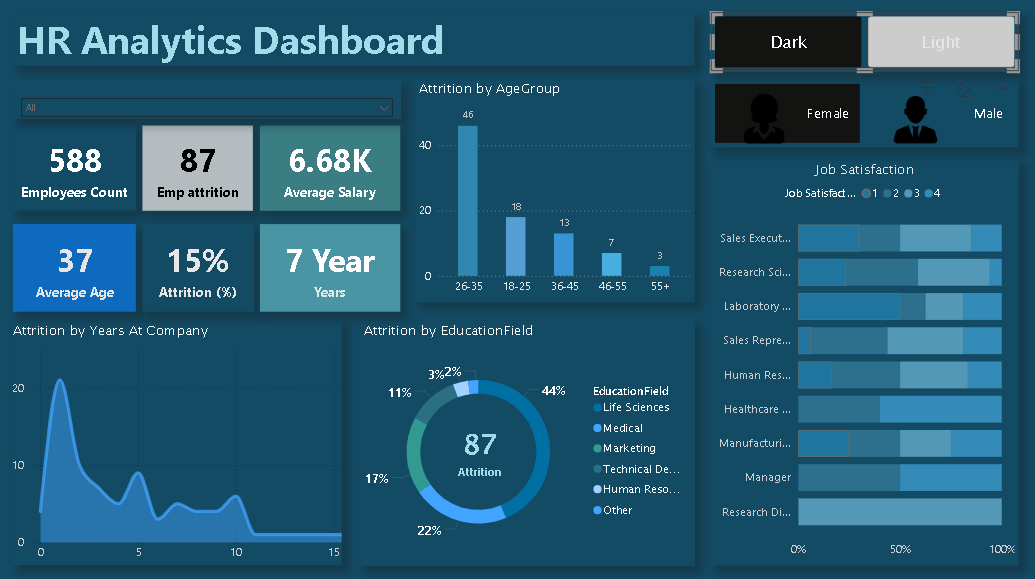

The dashboard page shown, as its layout file describes it:
{"tool":"powerbi","page":{"name":"Page 1","canvas":[1280,720],"ordinal":0},"visuals":[{"type":"image","box":[891.7,101.7,98.3,75],"z":2000},{"type":"image","box":[1091.7,101.7,98.3,75],"z":3000},{"type":"card","fields":{"Values":["HR_Analytics.Employee_Count"]},"box":[18.3,103.3,151.7,105],"z":4000},{"type":"card","fields":{"Values":["HR_Analytics.Employees_attrition"]},"box":[178.3,101.7,136.7,105],"z":5000},{"type":"card","fields":{"Values":["HR_Analytics.year_with_text"]},"box":[325,216.7,171.7,105],"z":6000},{"type":"card","fields":{"Values":["HR_Analytics.attrition%"]},"box":[178.3,216.7,136.7,105],"z":7000},{"type":"card","fields":{"Values":["HR_Analytics.Avg_Salary"]},"box":[325,101.7,171.7,105],"z":8000},{"type":"donutChart","title":"Attrition by EducationField","fields":{"Y":["HR_Analytics.Employees_attrition"],"Category":["HR_Analytics.EducationField"]},"box":[448,394,414,302],"z":8500},{"type":"areaChart","title":"Attrition by Years At Company","fields":{"Category":["HR_Analytics.YearsAtCompany"],"Y":["HR_Analytics.Employees_attrition"]},"box":[18,394,408,302],"z":9000},{"type":"columnChart","title":"Attrition by AgeGroup","fields":{"Category":["HR_Analytics.AgeGroup"],"Y":["HR_Analytics.Employees_attrition"]},"box":[515,103.3,345,275],"z":11000},{"type":"card","fields":{"Values":["HR_Analytics.Avg_age"]},"box":[18.3,216.7,151.7,105],"z":12000},{"type":"hundredPercentStackedBarChart","title":"Job Satisfaction","fields":{"Y":["HR_Analytics.Employees_attrition"],"Series":["HR_Analytics.JobSatisfaction"],"Category":["HR_Analytics.JobRole"]},"box":[880,195,380,500],"z":13000},{"type":"advancedSlicerVisual","fields":{"Values":["HR_Analytics.Gender"]},"box":[880,97.1,380,84.3],"z":14000},{"type":"advancedSlicerVisual","fields":{"Values":["HR_Analytics.Department"]},"box":[18.3,331.7,478.3,56.7],"z":15000},{"type":"textbox","title":"  HR Analytics Dashboard","box":[18.3,13.3,703.3,76.7],"z":16000},{"type":"card","fields":{"Values":["HR_Analytics.Employees_attrition"]},"box":[550,501.7,90,91.7],"z":17000}]}

Visuals, with their boxes in screenshot pixels (x1, y1, x2, y2), scaled from the page's 1280x720 canvas onto the 1035x579 screenshot:
image: (721,82,801,142)
image: (883,82,962,142)
card - HR_Analytics.Employee_Count: (15,83,137,168)
card - HR_Analytics.Employees_attrition: (144,82,255,166)
card - HR_Analytics.year_with_text: (263,174,402,259)
card - HR_Analytics.attrition%: (144,174,255,259)
card - HR_Analytics.Avg_Salary: (263,82,402,166)
"Attrition by EducationField" donutChart: (362,317,697,560)
"Attrition by Years At Company" areaChart: (15,317,344,560)
"Attrition by AgeGroup" columnChart: (416,83,695,304)
card - HR_Analytics.Avg_age: (15,174,137,259)
"Job Satisfaction" hundredPercentStackedBarChart: (712,157,1019,559)
advancedSlicerVisual - HR_Analytics.Gender: (712,78,1019,146)
advancedSlicerVisual - HR_Analytics.Department: (15,267,402,312)
"  HR Analytics Dashboard" textbox: (15,11,583,72)
card - HR_Analytics.Employees_attrition: (445,403,518,477)
